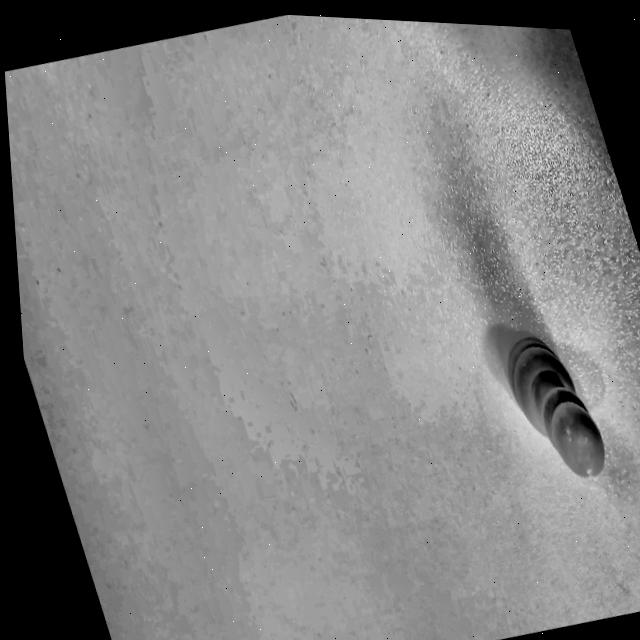white-pawn: (485, 326, 604, 477)
